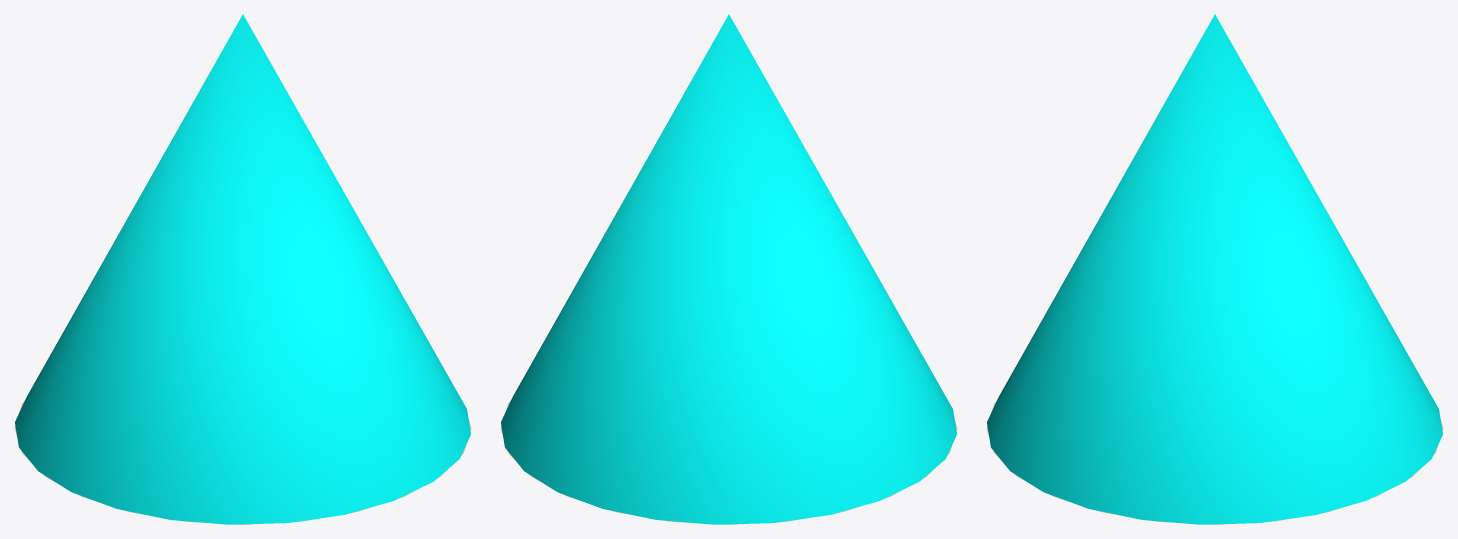
3 views of the same model, side by side, from view 1: azimuth 30°, elevation 25°; view 2: azimuth 150°, elevation 25°; view 3: azimuth 270°, elevation 25° (orthographic).
Parts seen in each view (by area): view 1: Model; view 2: Model; view 3: Model.
Boxes of the visible parts, x1=… form: Model: x1=14, y1=14, x2=471, y2=524; Model: x1=500, y1=14, x2=957, y2=524; Model: x1=986, y1=14, x2=1443, y2=524.
Bounding box in the file's own units: 3.94 × 3.94 × 3.94.
